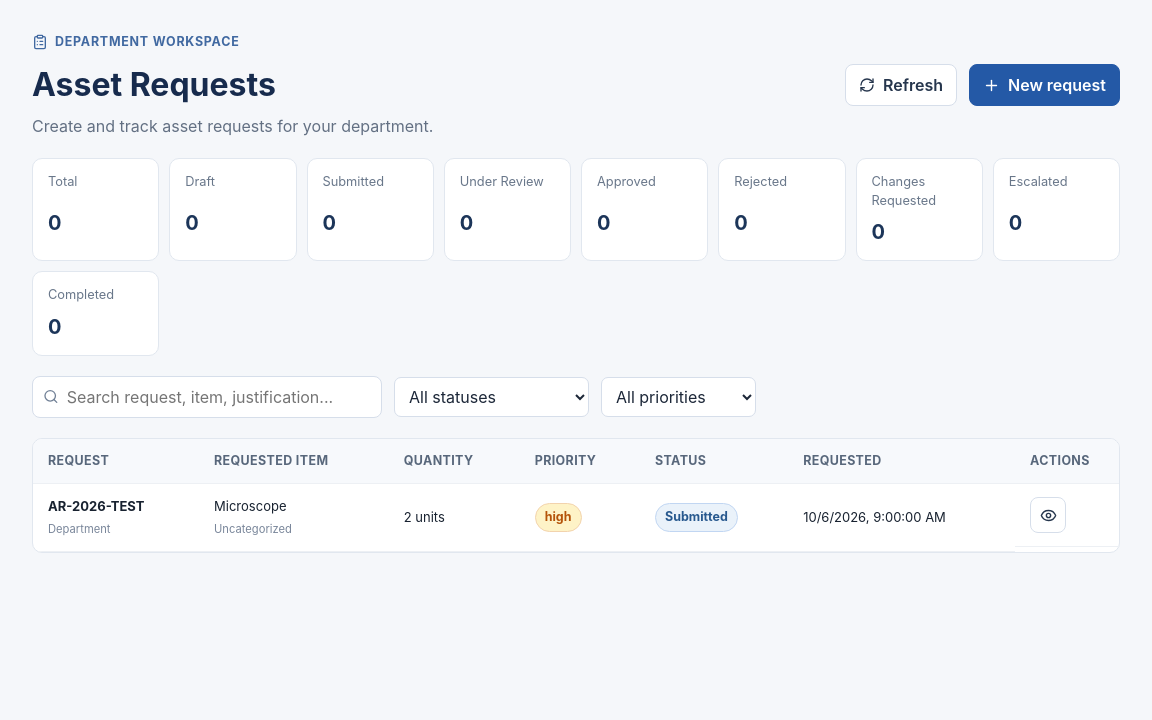
creates a request with mandatory justification and refreshes the real list
Expected: the text "AR-2026-TEST" is shown, x1=48 y1=498 x2=144 y2=514
Click the button "New request". click: point(1044, 85)
box: x1=969 y1=64 x2=1120 y2=106
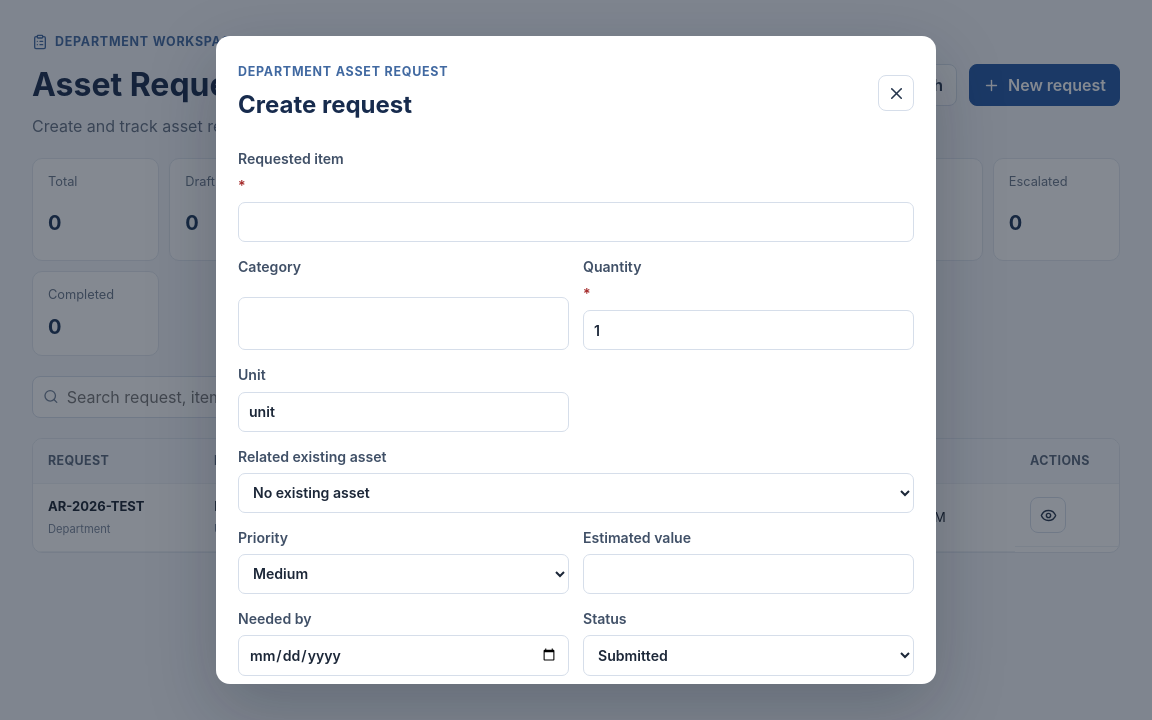
Type "New projector" into the field labelled "Requested item *". click: point(576, 222)
box: x1=238 y1=202 x2=914 y2=242
(page scrolled)
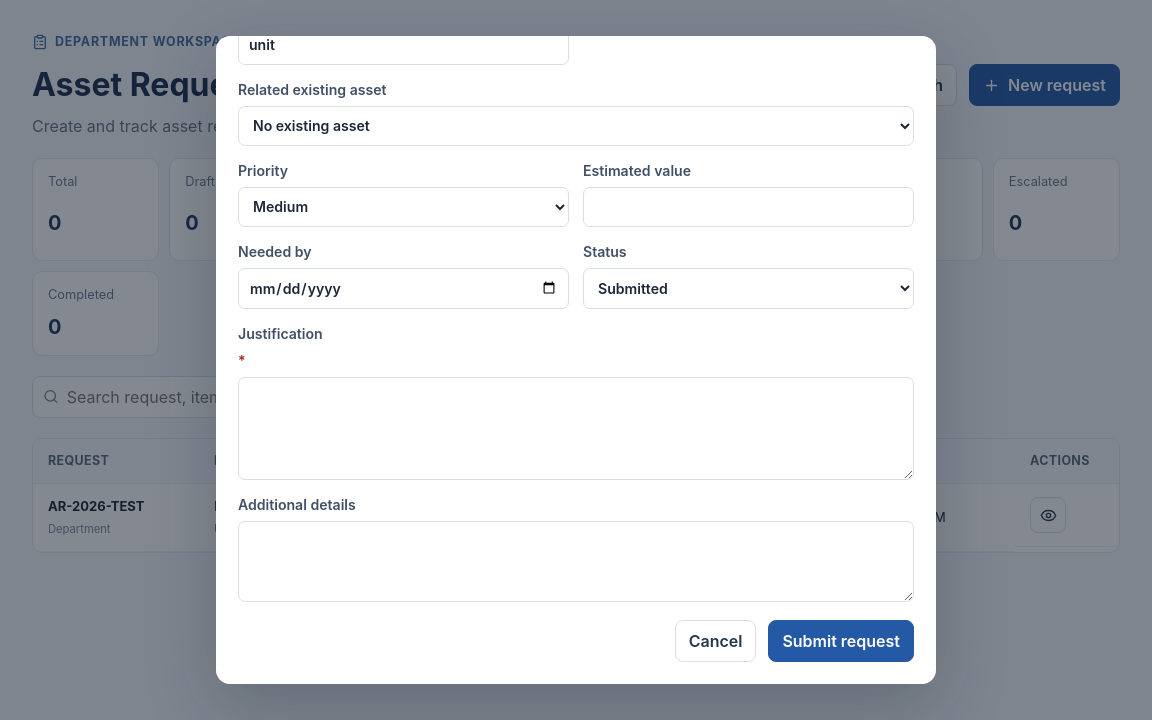
Type "Needed for lectures" into the text box labelled "Justification *". click: point(576, 428)
box: x1=238 y1=377 x2=914 y2=480
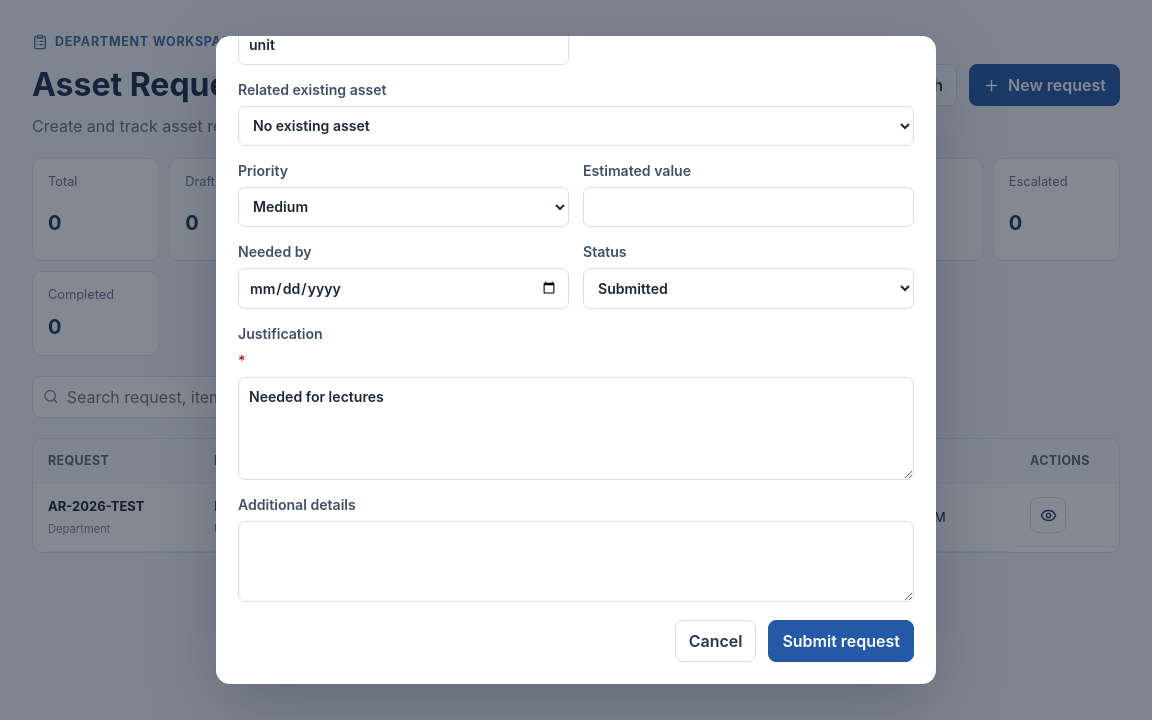
Click the button "Submit request". click: point(841, 641)
box: x1=768 y1=620 x2=914 y2=662
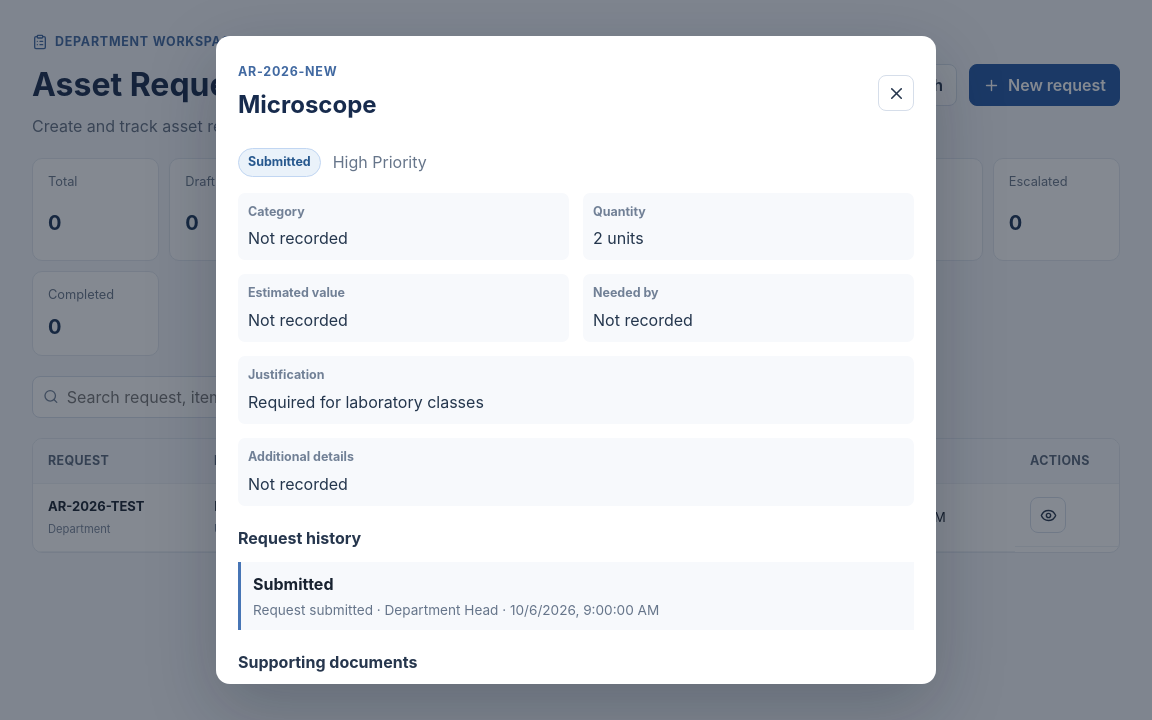
Expected: the heading "Microscope" is shown, x1=238 y1=87 x2=377 y2=123
